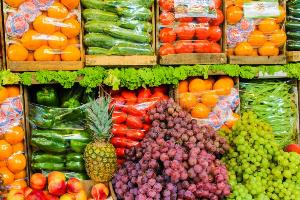bell_pepper: (28, 89, 94, 173)
grape: (112, 104, 220, 200), (224, 110, 300, 200)
orange: (0, 1, 76, 67), (224, 1, 286, 56), (1, 84, 25, 192)
peach: (12, 168, 104, 200)
tomato: (158, 0, 228, 68), (110, 88, 166, 154)
zucchini: (82, 1, 160, 60)
